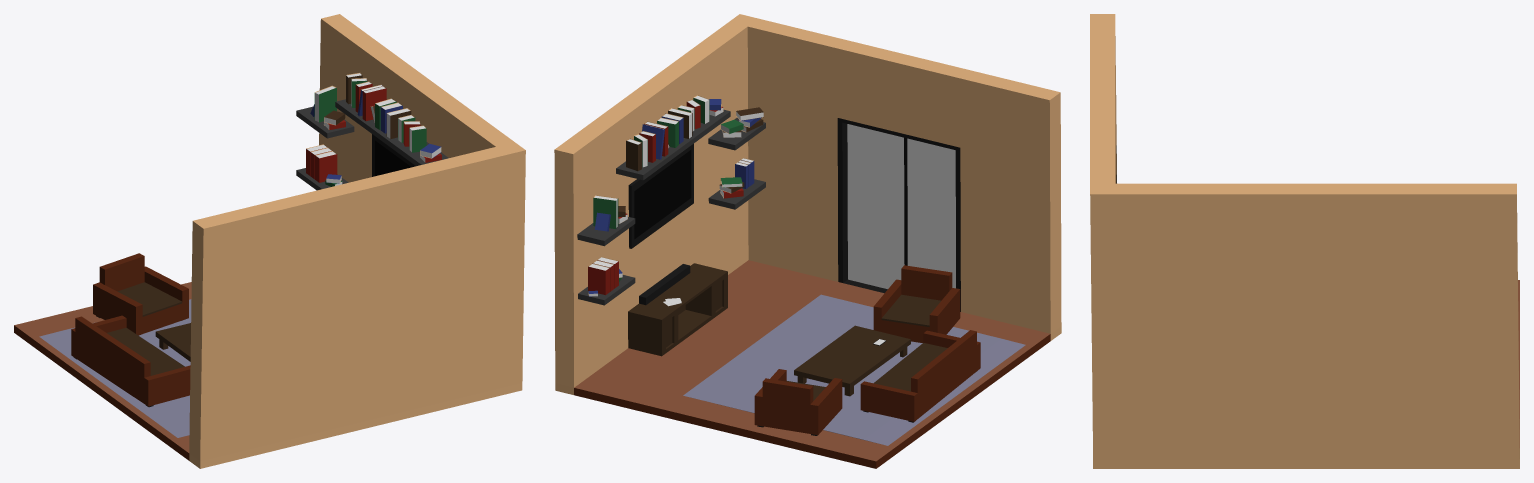
File: room.fbx
3 renders of one model, left to right at view 1: azimuth 30°, elevation 25°; view 2: azimuth 150°, elevation 25°; view 3: azimuth 270°, elevation 25°, orthographic. The views are drawn at different scales.
Visible parts, largest first — view 1: Cube; view 2: Cube; view 3: Cube.
Part boxes in pixels (x1,y1,x2,y2): Cube: [14, 14, 525, 468]; Cube: [554, 14, 1061, 468]; Cube: [1090, 14, 1519, 468].
Size of the model in its own units: 1711 by 1213 by 1712.
